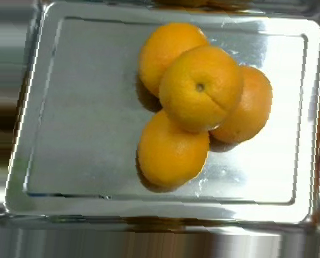Orange: (158, 44, 243, 131), (138, 21, 209, 99), (138, 107, 209, 185), (210, 63, 272, 143)
